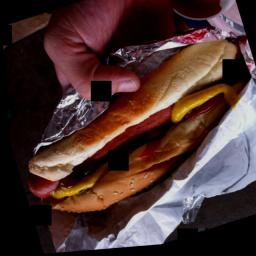hotdog: (74, 112, 177, 164), (17, 169, 56, 206)
